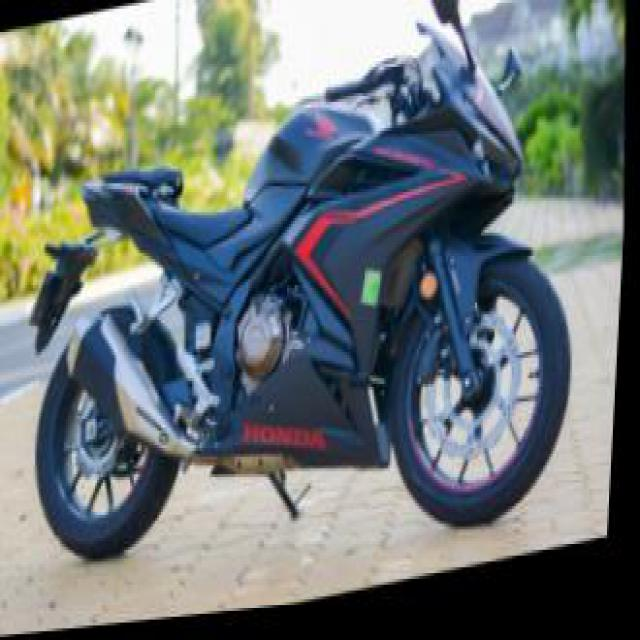CBR500R: (15, 0, 598, 626)
